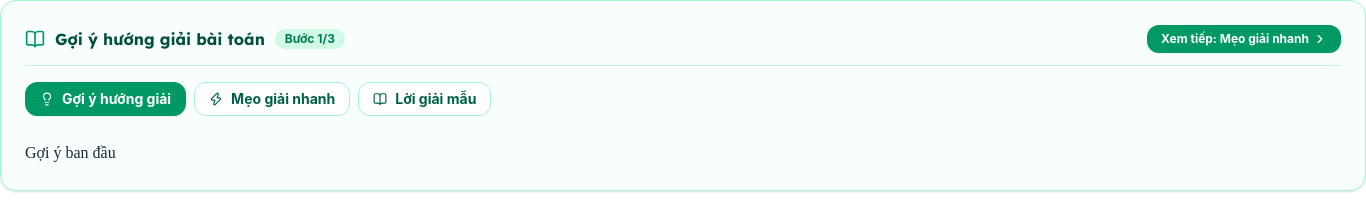
Scenario: QuestionHintTabs Component › renders tabs and allows clicking to navigate between tabs
Expected: the heading "Gợi ý hướng giải bài toán" is shown, [55, 27, 265, 51]
Expected: the text "Gợi ý ban đầu" is shown, [25, 144, 116, 161]
# Click Step 2 (Mẹo giải nhanh)
Click the button "Mẹo giải nhanh": coordinates (272, 99) [194, 82, 350, 116]
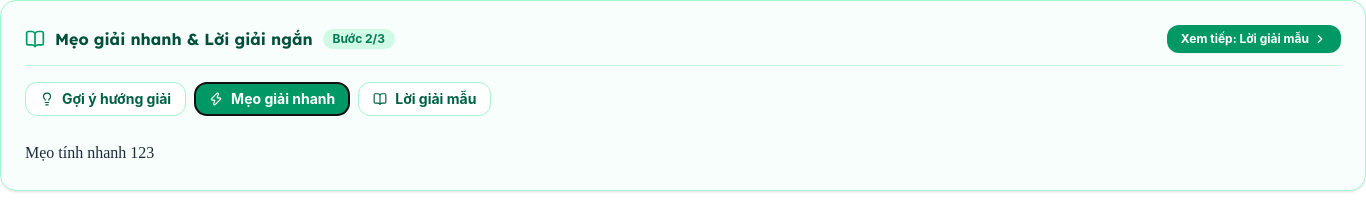
Expected: the heading "Mẹo giải nhanh & Lời giải ngắn" is shown, [55, 27, 313, 51]
Expected: the text "Mẹo tính nhanh 123" is shown, [25, 144, 154, 161]
# Click Step 3 (Lời giải mẫu - styled like Hình 3)
Click the button "Lời giải mẫu": coordinates (425, 99) [358, 82, 491, 116]
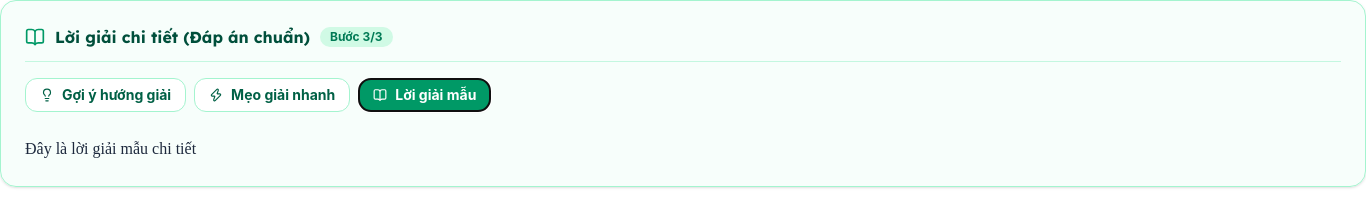
Expected: the heading "Lời giải chi tiết (Đáp án chuẩn)" is shown, [55, 25, 310, 49]
Expected: the text "Đây là lời giải mẫu chi tiết" is shown, [25, 140, 196, 157]
